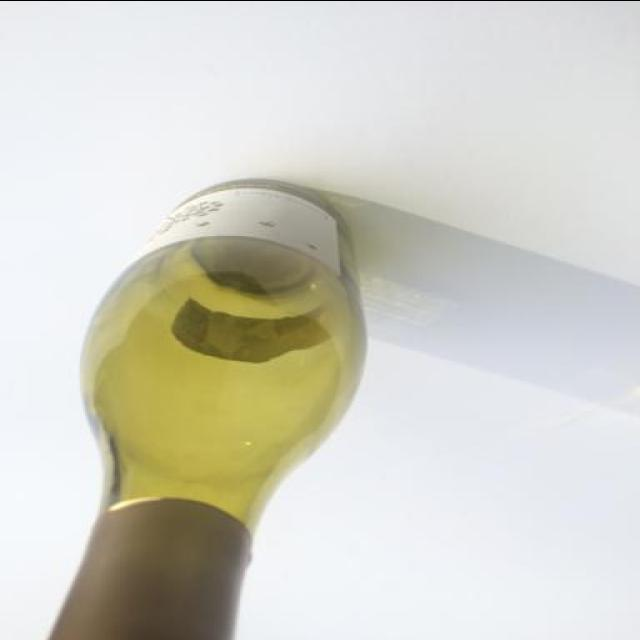glass: (23, 120, 440, 640)
